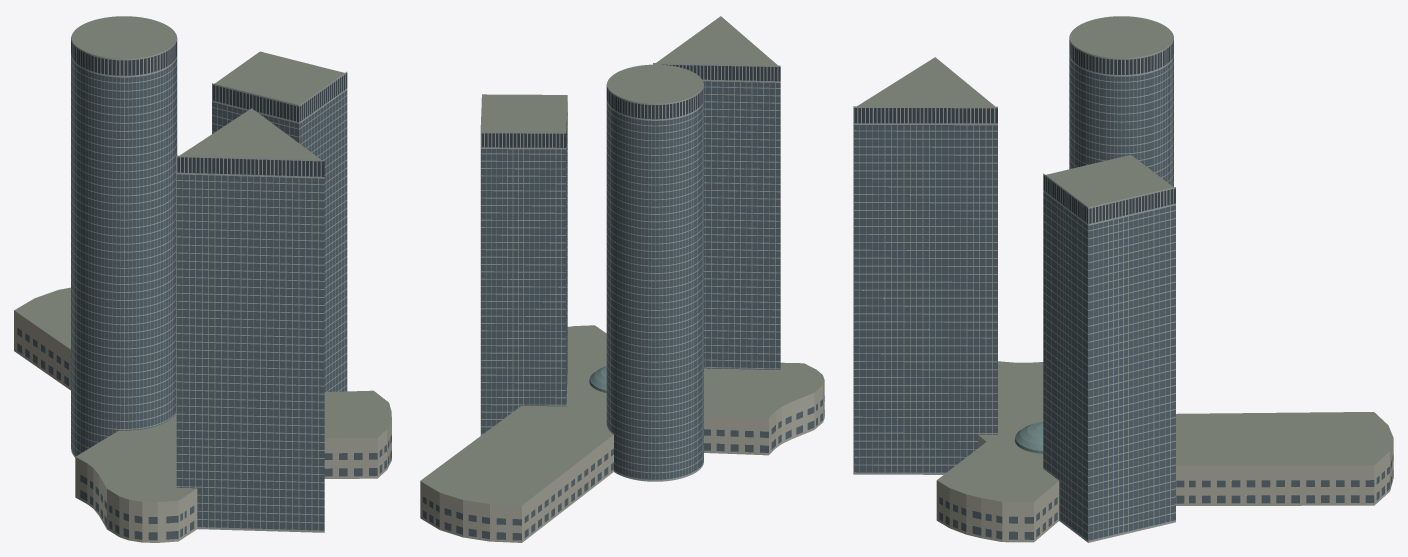
File: azrieli-center-near.glb
3 renders of one model, left to right at view 1: azimuth 30°, elevation 25°; view 2: azimuth 150°, elevation 25°; view 3: azimuth 270°, elevation 25°, orthographic. The views are drawn at different scales.
Visible parts, largest first — view 1: azrieli-center-0-glass, azrieli-center-0-frame, azrieli-center-0-roof, azrieli-center-0-podium, azrieli-center-0-vent; view 2: azrieli-center-0-glass, azrieli-center-0-frame, azrieli-center-0-roof, azrieli-center-0-podium, azrieli-center-0-vent; view 3: azrieli-center-0-glass, azrieli-center-0-frame, azrieli-center-0-roof, azrieli-center-0-podium, azrieli-center-0-vent, azrieli-center-0-atrium.
Boxes of the visible parts, x1=… form: azrieli-center-0-glass: x1=17, y1=56, x2=391, y2=540; azrieli-center-0-frame: x1=71, y1=37, x2=347, y2=532; azrieli-center-0-roof: x1=14, y1=16, x2=391, y2=501; azrieli-center-0-podium: x1=14, y1=310, x2=391, y2=542; azrieli-center-0-vent: x1=71, y1=38, x2=347, y2=176; azrieli-center-0-glass: x1=423, y1=81, x2=824, y2=540; azrieli-center-0-frame: x1=480, y1=63, x2=780, y2=481; azrieli-center-0-roof: x1=420, y1=16, x2=824, y2=505; azrieli-center-0-podium: x1=420, y1=381, x2=824, y2=542; azrieli-center-0-vent: x1=481, y1=64, x2=780, y2=147; azrieli-center-0-glass: x1=854, y1=57, x2=1393, y2=540; azrieli-center-0-frame: x1=853, y1=38, x2=1175, y2=542; azrieli-center-0-roof: x1=857, y1=16, x2=1393, y2=502; azrieli-center-0-podium: x1=936, y1=435, x2=1393, y2=542; azrieli-center-0-vent: x1=854, y1=40, x2=1175, y2=223; azrieli-center-0-atrium: x1=1014, y1=421, x2=1043, y2=453.
Bounding box in the file's own units: 143 × 187 × 225.
